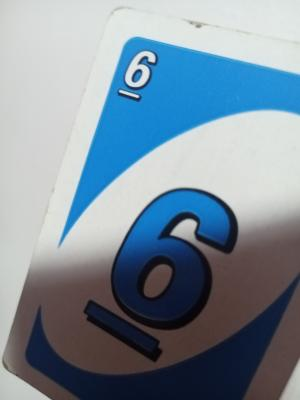blue: (84, 39, 273, 395)
num_6: (113, 47, 159, 107)
